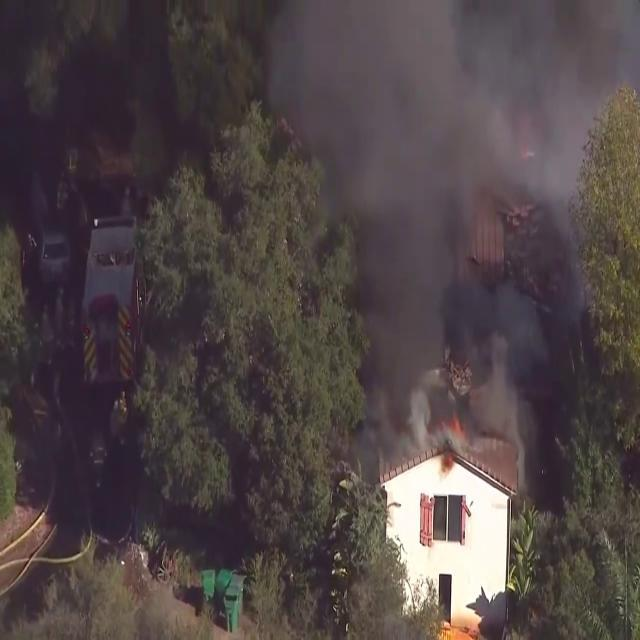Smoke: (261, 0, 607, 457)
